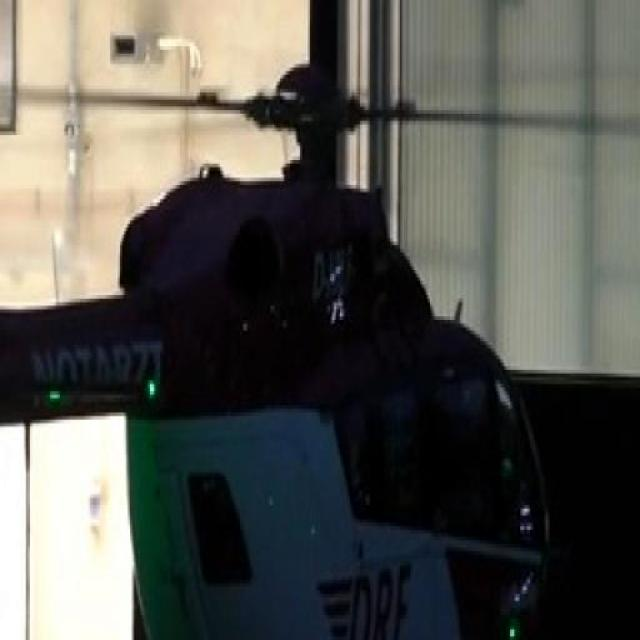drone: (0, 0, 554, 640)
